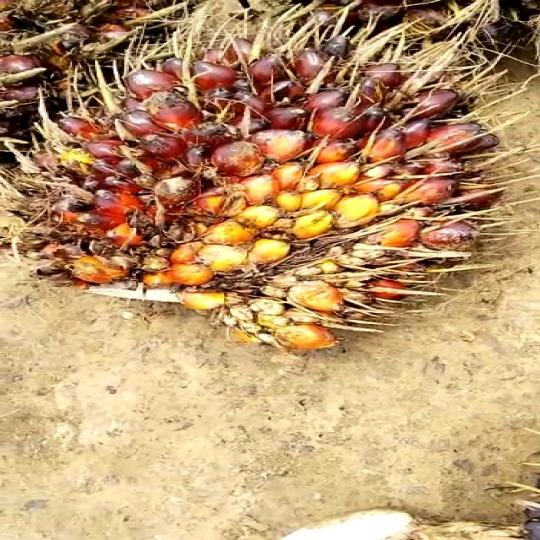masak: (0, 15, 532, 349)
